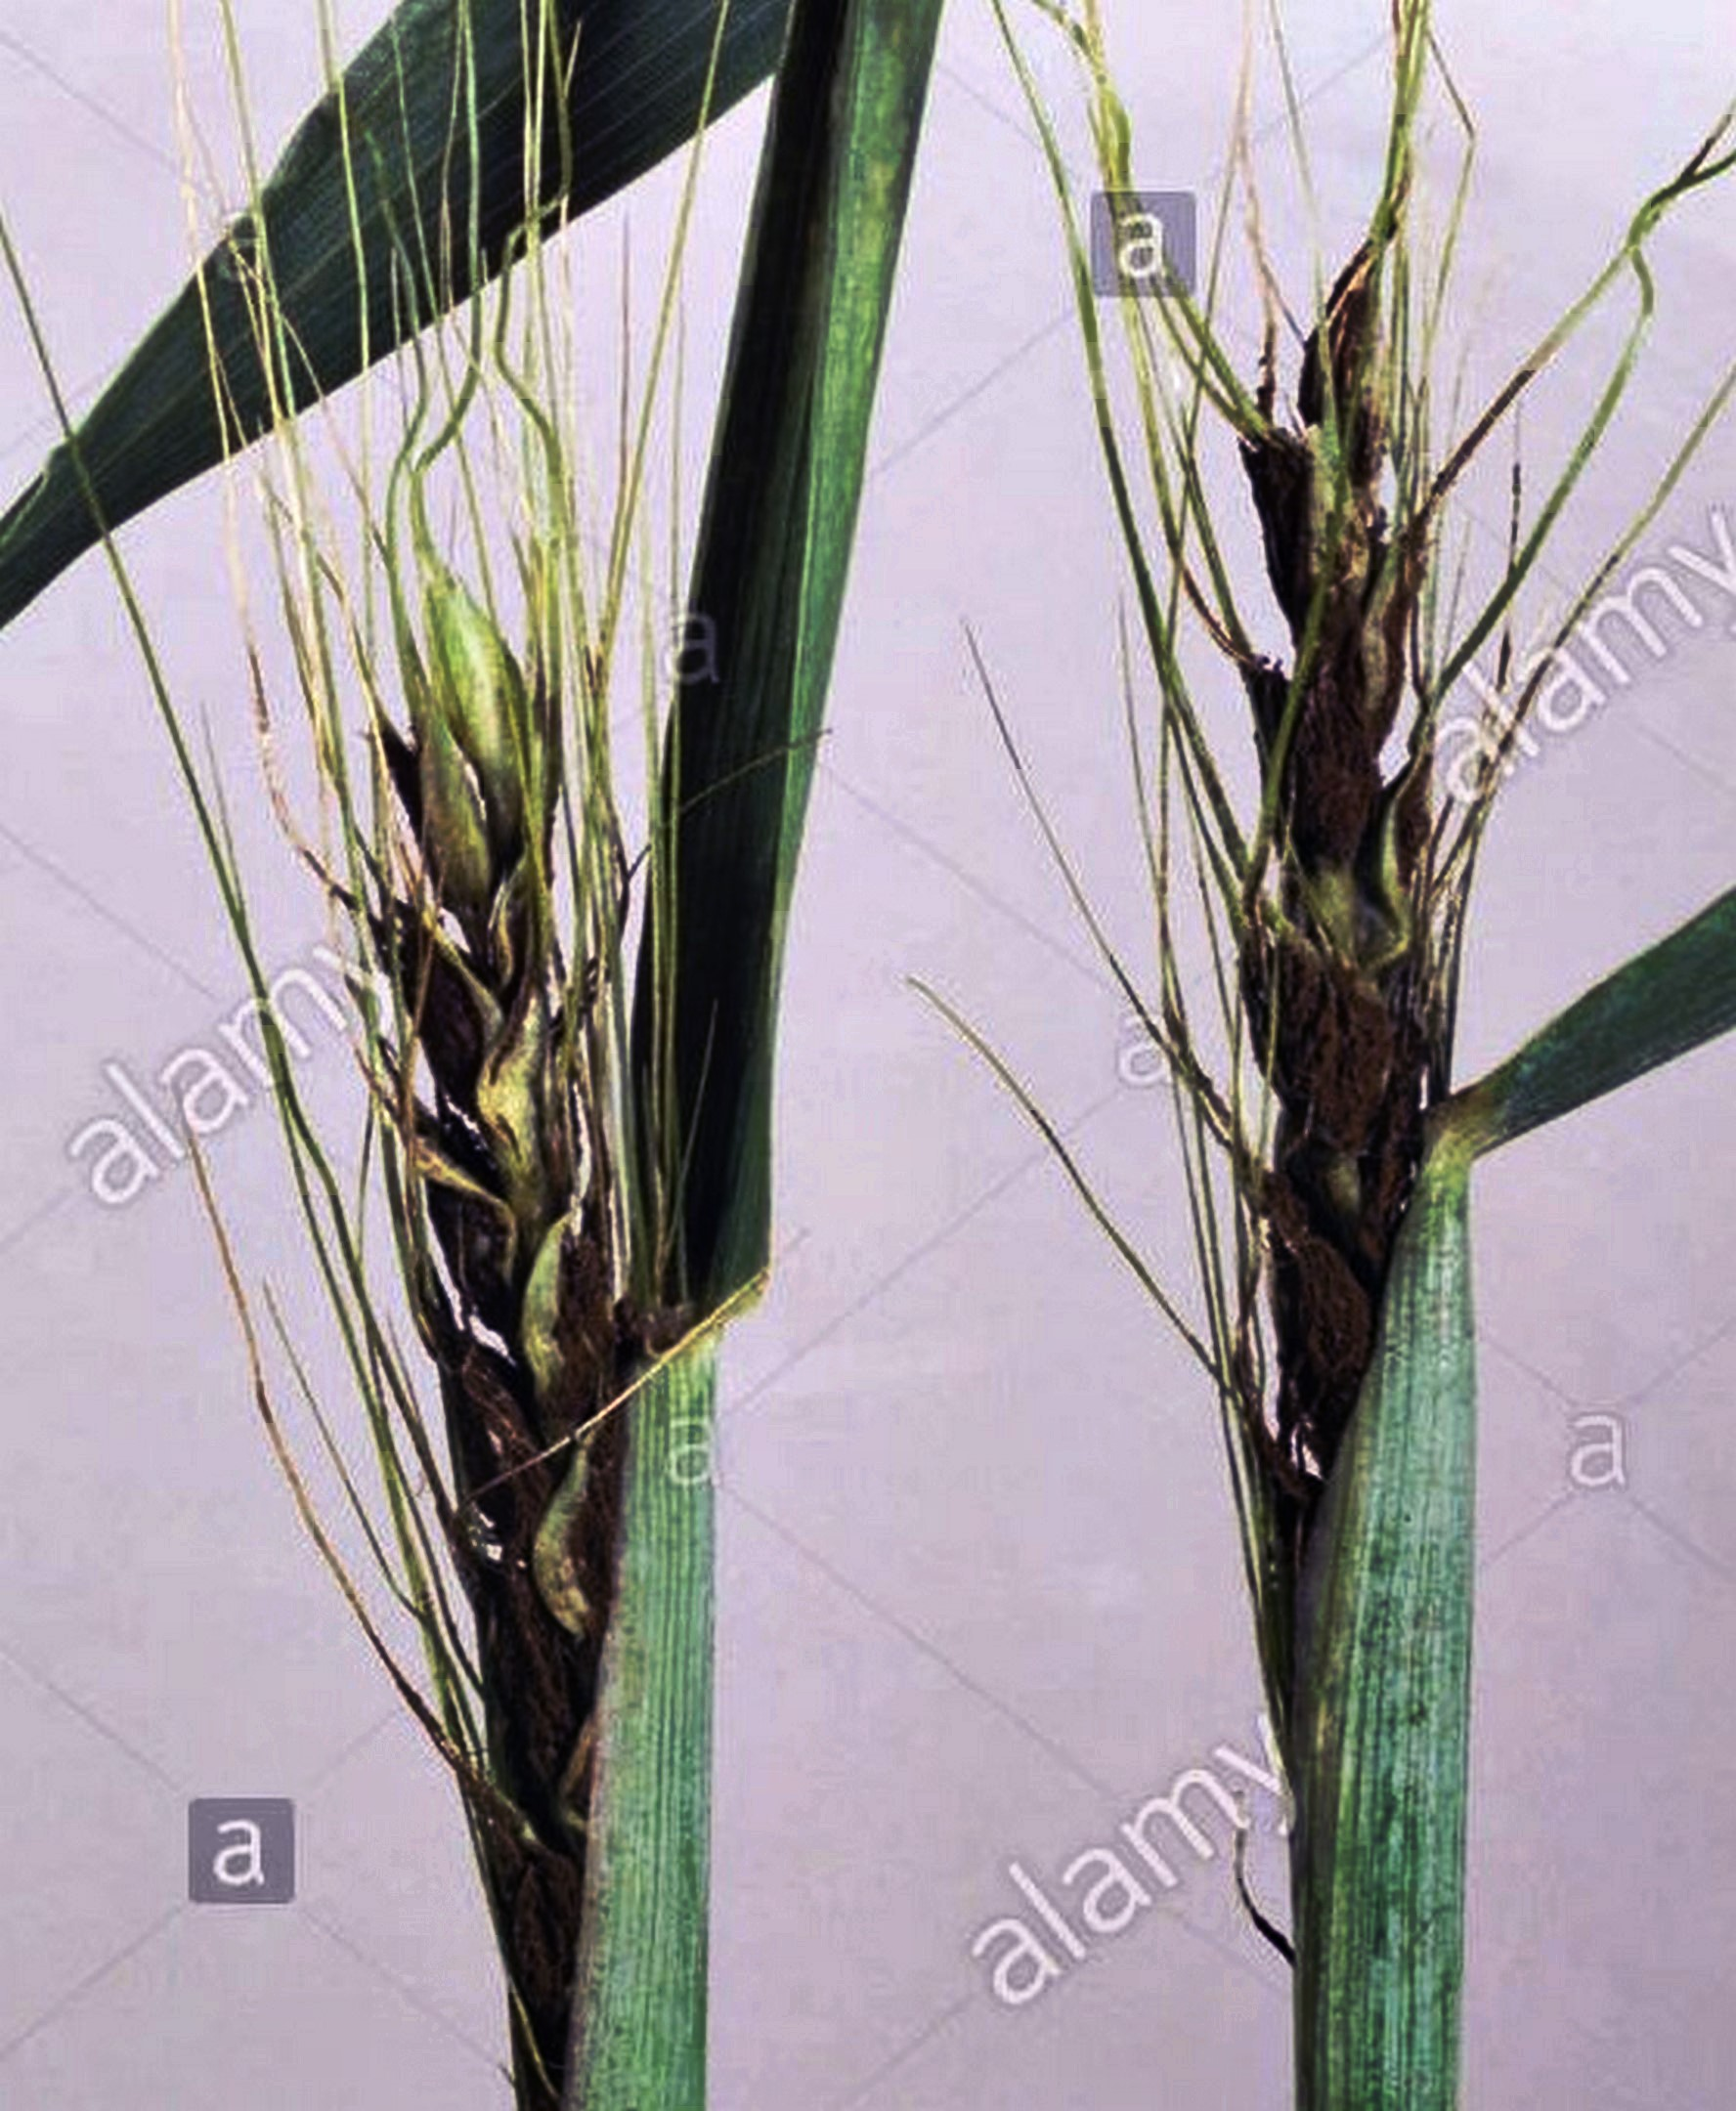Wheat Loose Smut: (268, 693, 701, 1918), (1170, 277, 1503, 1603)
